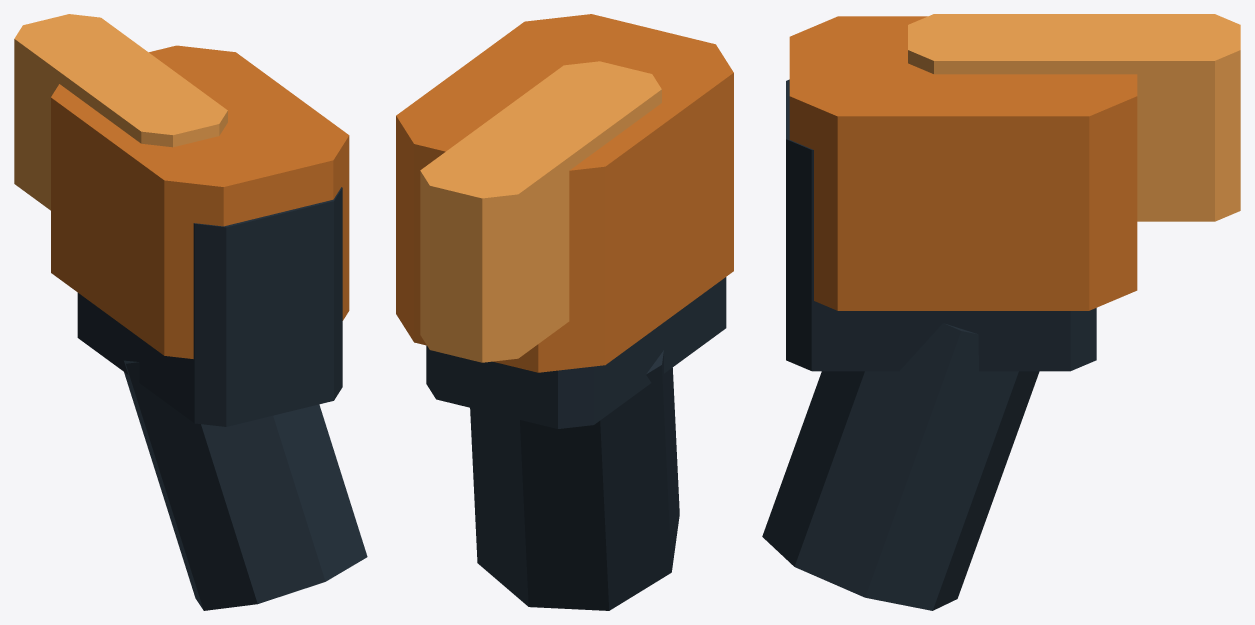
File: enemy_runner_lod_upper_arm_r.obj
3 views of the same model, side by side, from view 1: azimuth 30°, elevation 25°; view 2: azimuth 150°, elevation 25°; view 3: azimuth 270°, elevation 25° (orthographic). The views are drawn at different scales.
Bounding box in the file's own units: 0.3584 × 0.7869 × 0.6471.
